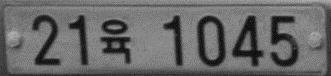0: (195, 14, 227, 67)
1: (157, 13, 185, 68), (66, 13, 91, 66)
2: (31, 13, 62, 67)
4: (229, 14, 266, 68)
5: (269, 14, 299, 67)
육: (98, 17, 132, 67)
